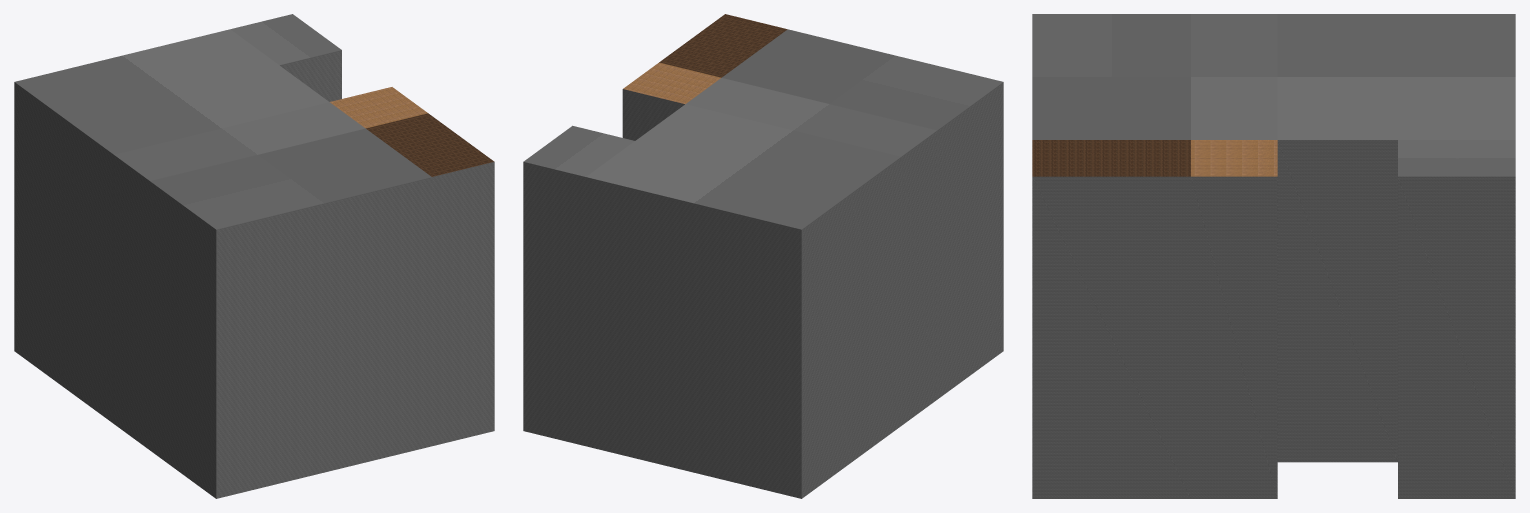
File: level_0_floor.fbx
The picture shows the model from 3 angles, left to right: view 1: azimuth 30°, elevation 25°; view 2: azimuth 150°, elevation 25°; view 3: azimuth 270°, elevation 25°; orthographic projection. The views are drawn at different scales.
Visible parts, largest first — view 1: Cube.010; view 2: Cube.010; view 3: Cube.010.
Boxes of the visible parts, x1,y1,x2,y2 form: Cube.010: [14, 14, 494, 498]; Cube.010: [523, 14, 1003, 498]; Cube.010: [1032, 14, 1515, 498].
Bounding box in the file's own units: 16000 × 14794 × 20100.
Materials: 3 (3 with a texture image).
